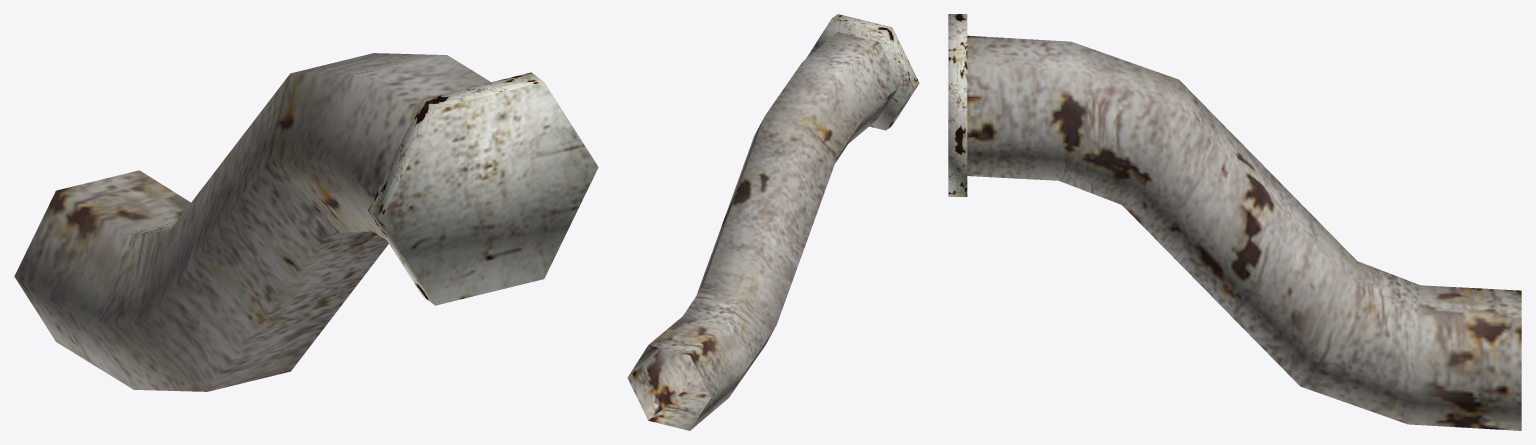
The model's file is large_white_limp.fbx.
3 views of the same model, side by side, from view 1: azimuth 30°, elevation 25°; view 2: azimuth 150°, elevation 25°; view 3: azimuth 270°, elevation 25° (orthographic). The views are drawn at different scales.
Parts seen in each view (by area): view 1: polySurface641; view 2: polySurface641; view 3: polySurface641.
Boxes of the visible parts, <box> form: polySurface641: <box>14,53,598,391</box>; polySurface641: <box>627,14,919,430</box>; polySurface641: <box>948,14,1521,430</box>.
Size of the model in its own units: 1.3 by 3 by 4.07.
